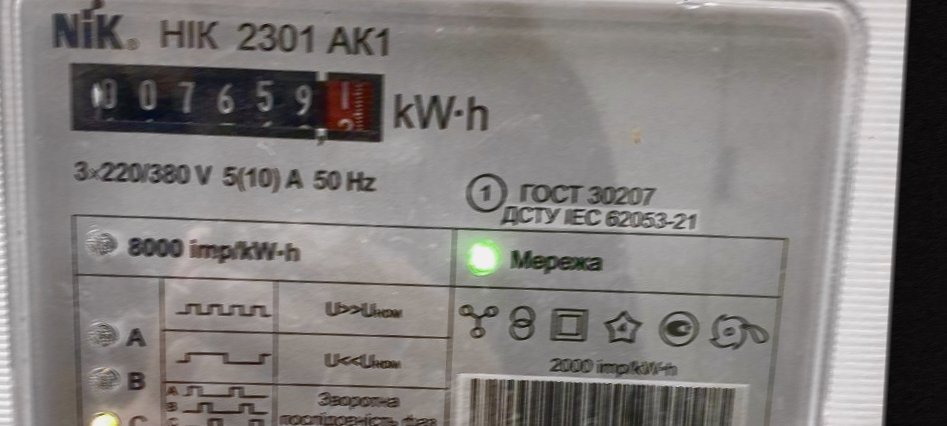0: (134, 78, 160, 116), (95, 76, 119, 116)
1: (335, 79, 353, 116)
5: (253, 79, 275, 117)
6: (212, 82, 237, 119)
7: (172, 79, 196, 118)
9: (290, 83, 314, 121)
screen: (56, 51, 395, 160)
